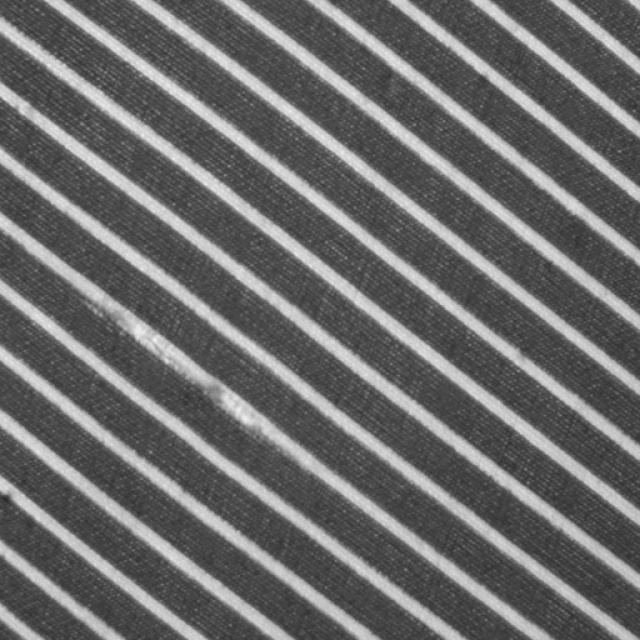Thread-Defect: (55, 261, 320, 475)
